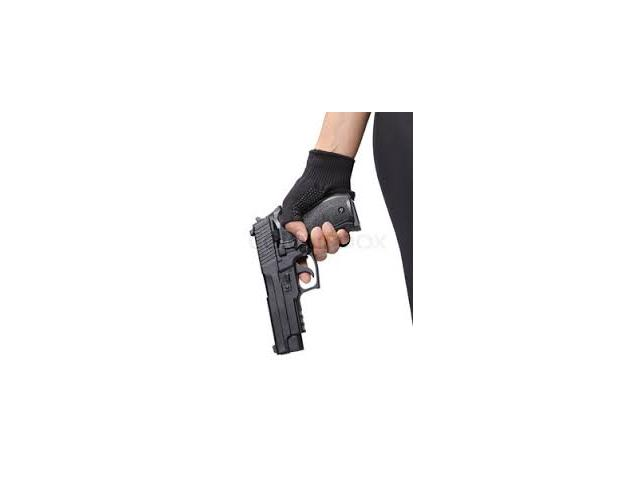pistol: (250, 189, 360, 355)
